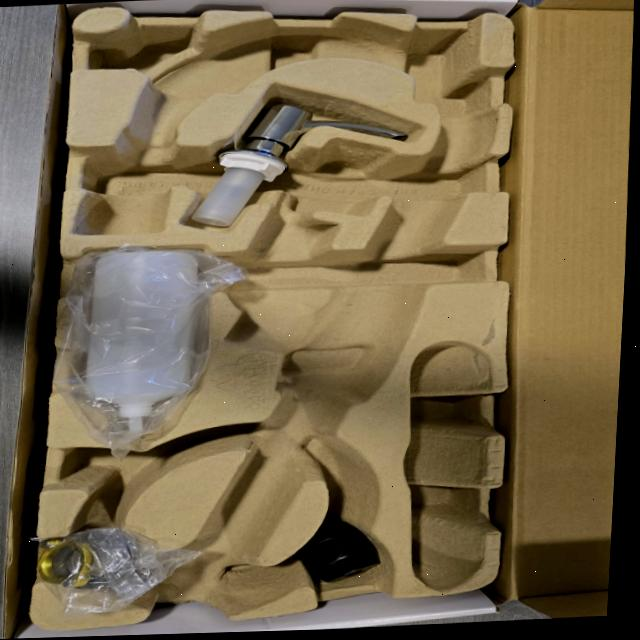1m: (71, 19, 502, 623)
2: (190, 102, 407, 227)
3: (81, 249, 198, 442)
4m: (402, 340, 491, 589)
5: (297, 519, 381, 586)
6: (28, 525, 203, 615)
7m: (55, 433, 212, 512)
